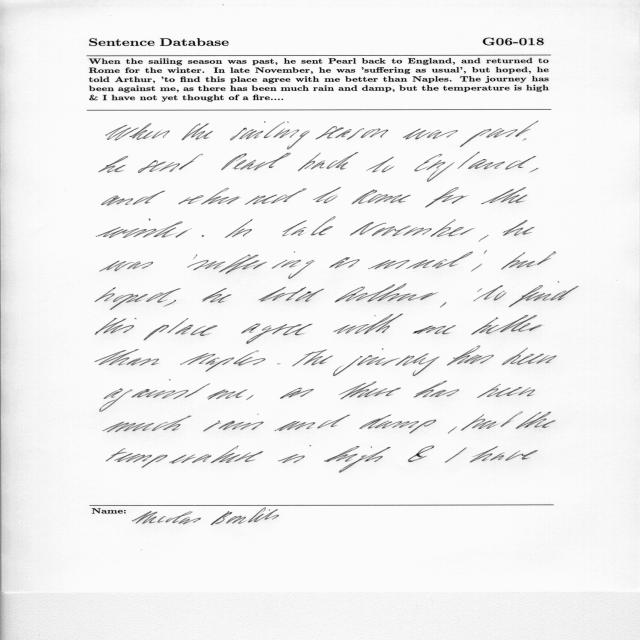word: (415, 152, 537, 182), (100, 379, 210, 412), (106, 445, 263, 468), (187, 251, 315, 279), (395, 346, 494, 376), (350, 219, 475, 237), (230, 121, 310, 149), (179, 188, 307, 205), (460, 121, 538, 147), (95, 287, 181, 310), (335, 284, 438, 303), (180, 350, 266, 372), (333, 348, 400, 376), (97, 219, 193, 238), (324, 446, 391, 473), (368, 252, 473, 269), (509, 282, 579, 307), (144, 318, 218, 340), (360, 414, 437, 434), (241, 323, 313, 344), (103, 416, 191, 433), (471, 315, 542, 335), (333, 314, 403, 334), (138, 154, 203, 173), (275, 415, 351, 431), (221, 153, 291, 170), (461, 412, 523, 431), (105, 123, 170, 141), (470, 446, 538, 463), (298, 152, 358, 171), (338, 382, 401, 400), (203, 414, 264, 432), (96, 349, 159, 366), (501, 251, 556, 270), (282, 217, 336, 236), (316, 126, 389, 140), (259, 287, 325, 302), (102, 191, 166, 206), (502, 348, 556, 365), (425, 187, 468, 208), (352, 190, 411, 205), (481, 187, 527, 205), (477, 384, 535, 398), (414, 381, 459, 398), (95, 318, 137, 335), (292, 350, 333, 367), (516, 412, 556, 429), (403, 129, 458, 140), (100, 261, 153, 272), (279, 446, 312, 463), (181, 124, 213, 141), (225, 219, 253, 238), (502, 220, 535, 236), (474, 285, 507, 301), (99, 156, 128, 173), (367, 157, 395, 173), (313, 187, 341, 203), (408, 446, 434, 463), (208, 389, 248, 400), (202, 288, 231, 303), (412, 325, 456, 334), (280, 388, 314, 399), (445, 447, 467, 463), (329, 257, 360, 268), (471, 264, 482, 272), (164, 300, 176, 307), (479, 235, 489, 242), (448, 427, 457, 434), (529, 168, 539, 173), (246, 395, 254, 400), (440, 302, 446, 308), (478, 288, 483, 292), (194, 255, 198, 259), (484, 250, 487, 254), (277, 363, 281, 365), (523, 139, 526, 141), (202, 235, 204, 237)
